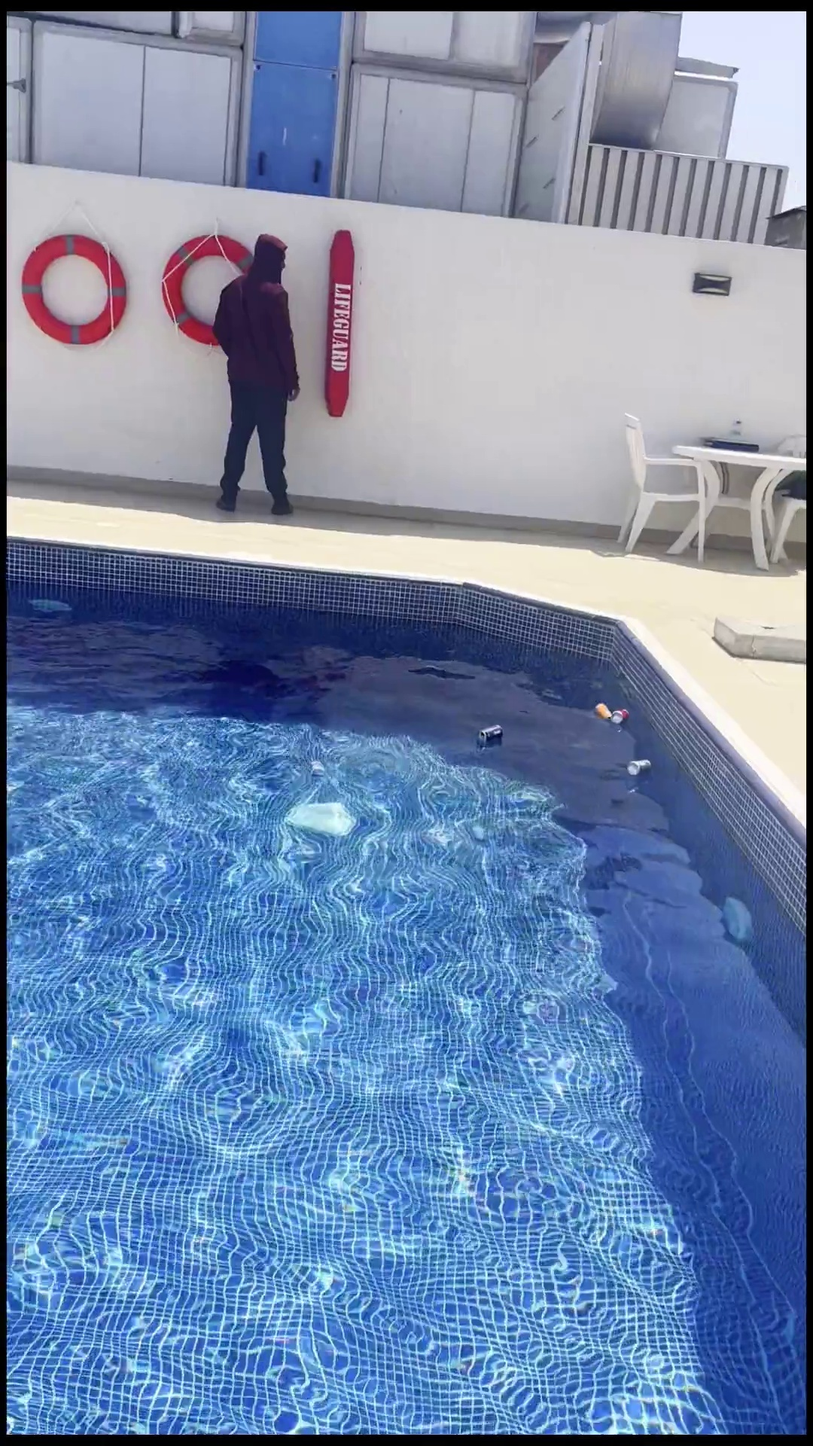debris: (473, 715, 506, 755), (622, 747, 653, 784), (606, 691, 629, 735), (591, 689, 614, 731)
